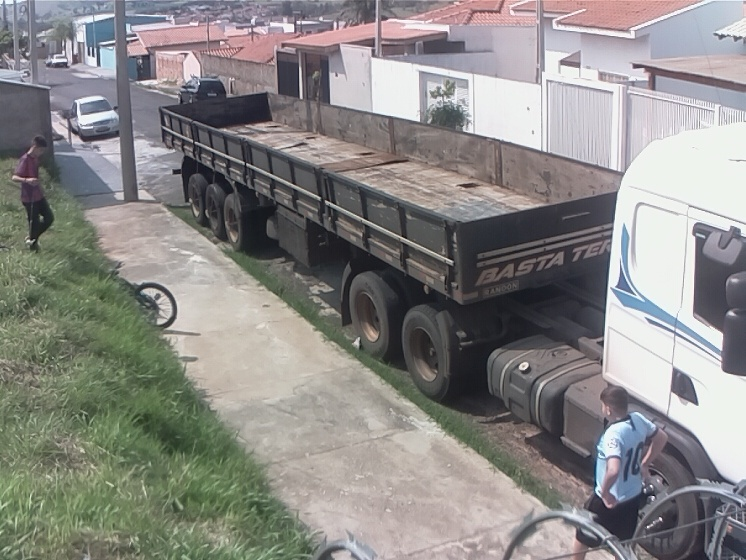person: (568, 382, 670, 560), (8, 134, 59, 260)
